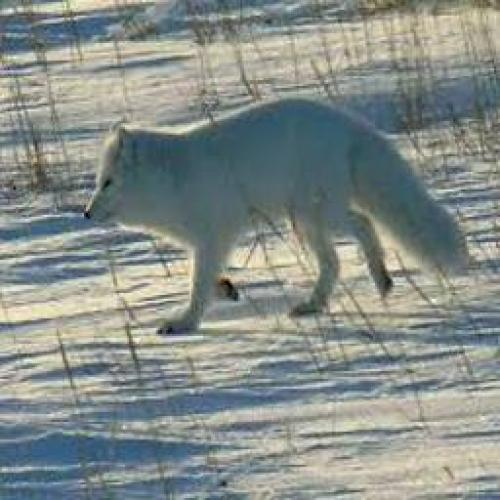arctic_fox-endangered: (84, 104, 471, 329)
